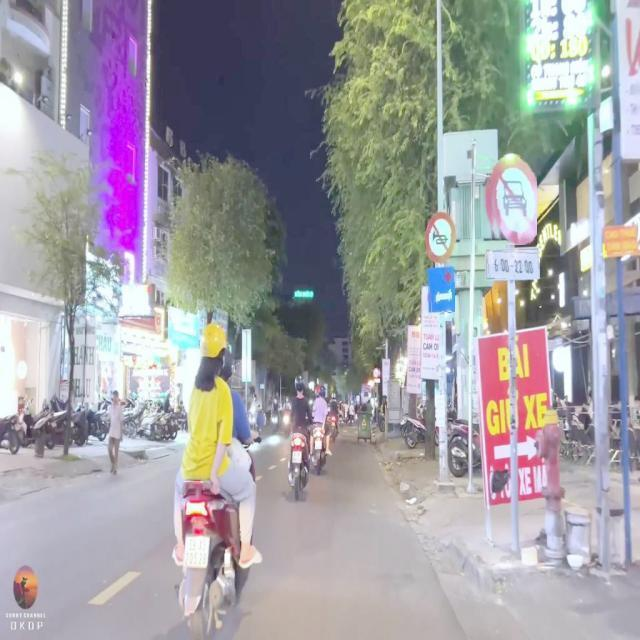103a-cam-oto: (486, 154, 542, 243)
128-cam-su-dung-coi: (426, 210, 456, 262)
